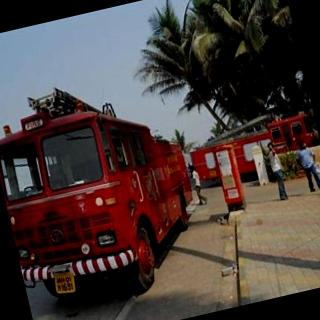Fire_truck: (0, 61, 212, 317), (182, 107, 320, 187)
